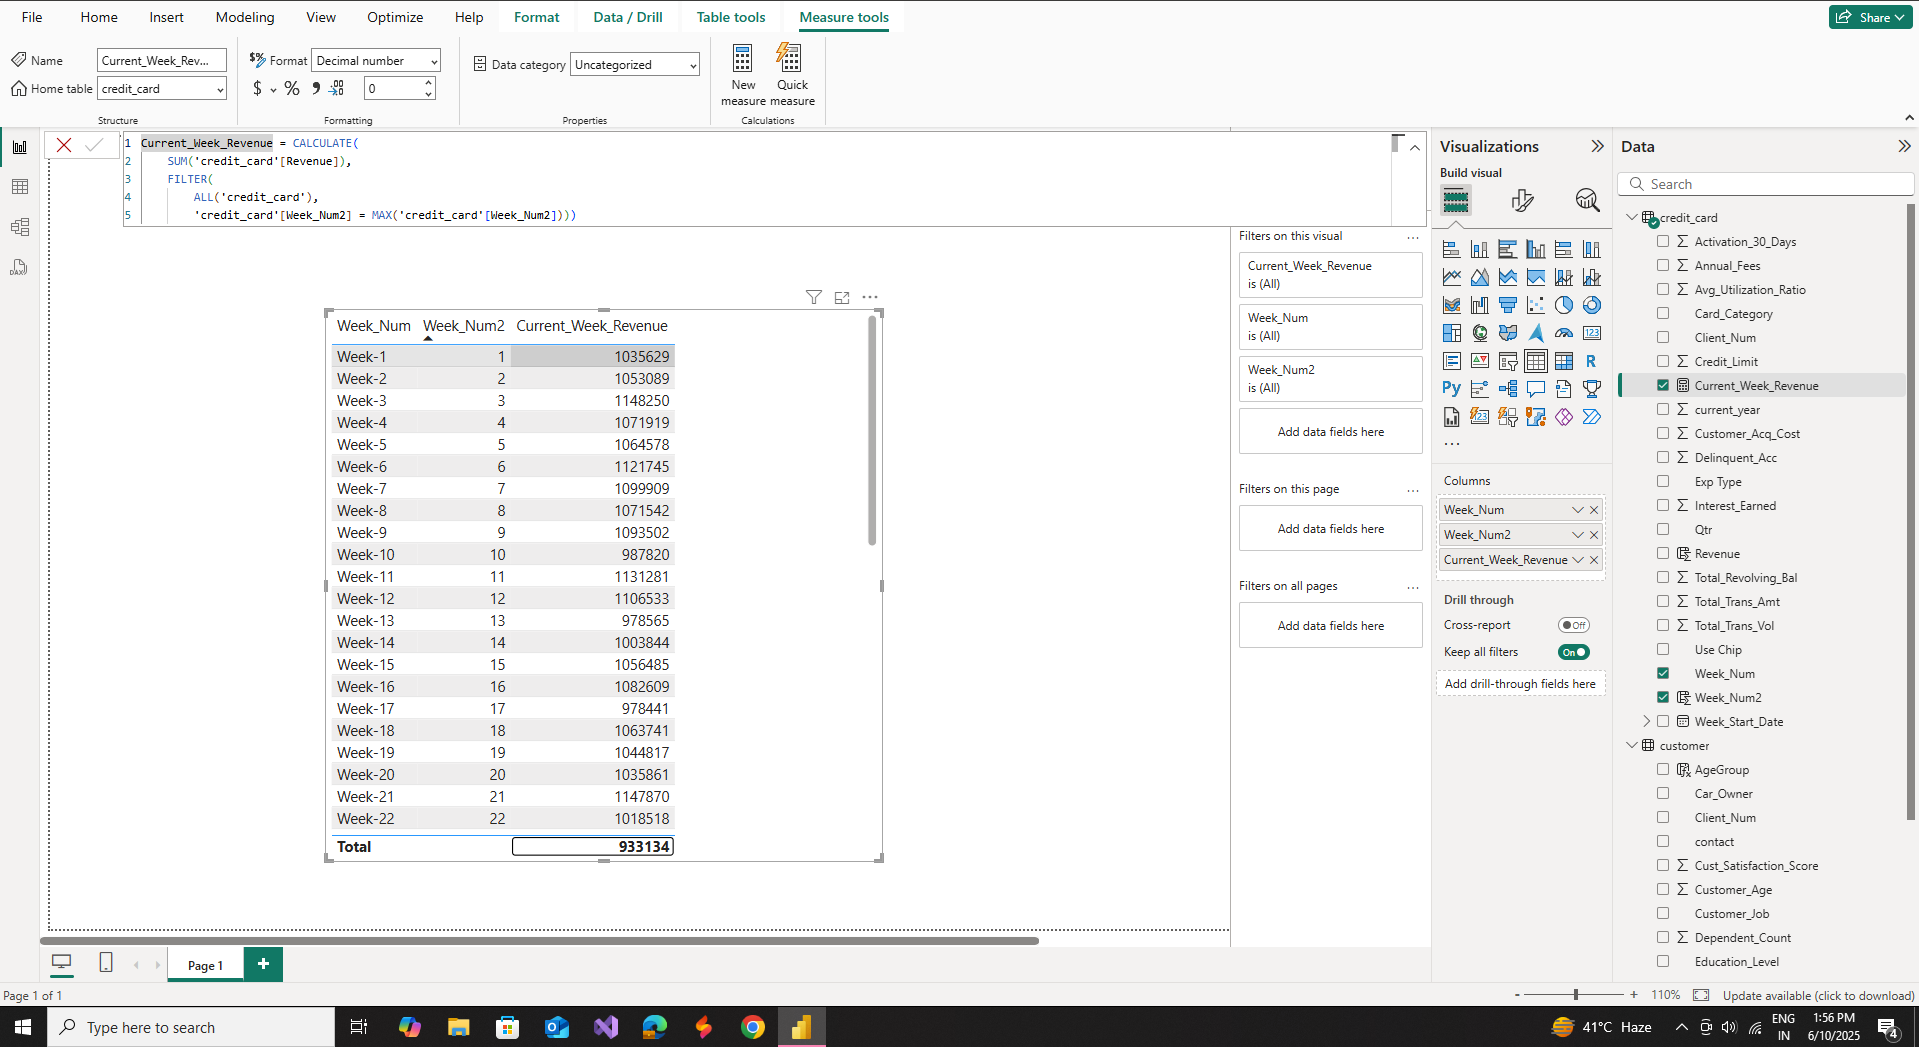

Layout of this report page (visuals, bound fields, positions):
{"tool":"powerbi","page":{"name":"Page 1","canvas":[1280,720],"ordinal":0},"visuals":[{"type":"tableEx","fields":{"Values":["credit_card.Week_Num2","credit_card.Previous_Week_Revenue","credit_card.Current_Week_Revenue","credit_card.WOW_Revenue"]},"box":[279.1,191.6,631.2,516.5],"z":1}]}

Visuals, with their boxes on the page's 1280x720 design canvas (x1, y1, x2, y2). These are canvas units, not pixel positions in the 1919x1047 screenshot, which may show the page scaled, cropped or inside an application window:
tableEx - credit_card.Week_Num2 x credit_card.Previous_Week_Revenue: 279, 192, 910, 708
